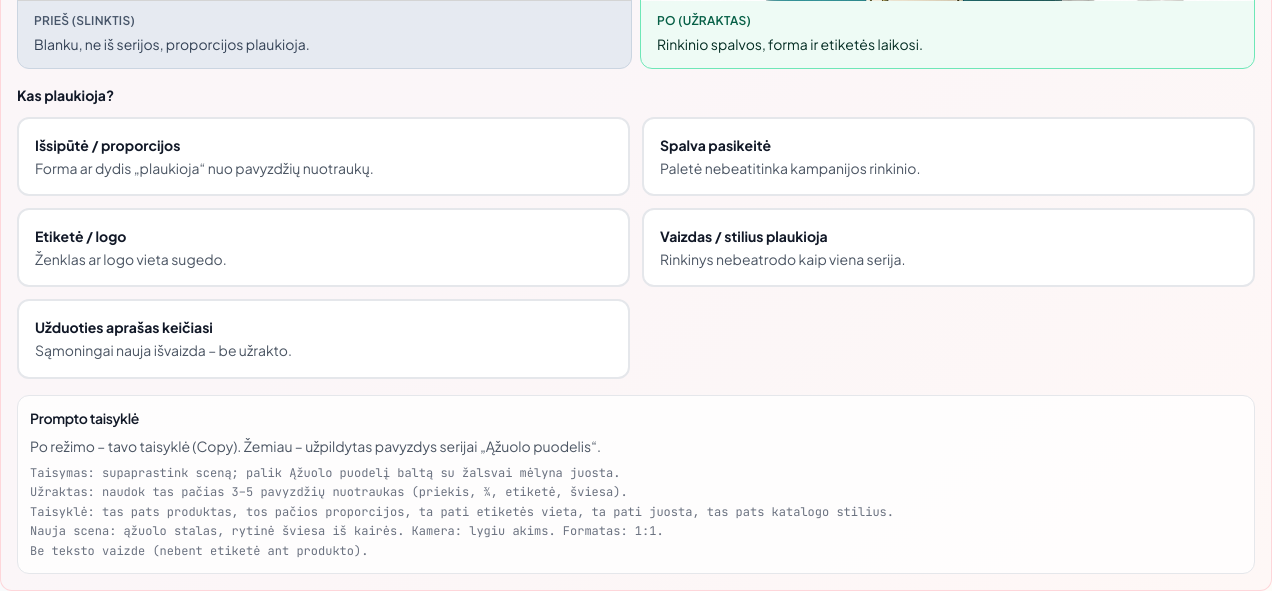
M13ConsistencyLockLabBlock › reveals fresh artifact without lock rule
(page scrolled)
Click the radio button labelled "Užduoties aprašas keičiasi".
click(124, 327)  # box [17,299,630,379]
(page scrolled)
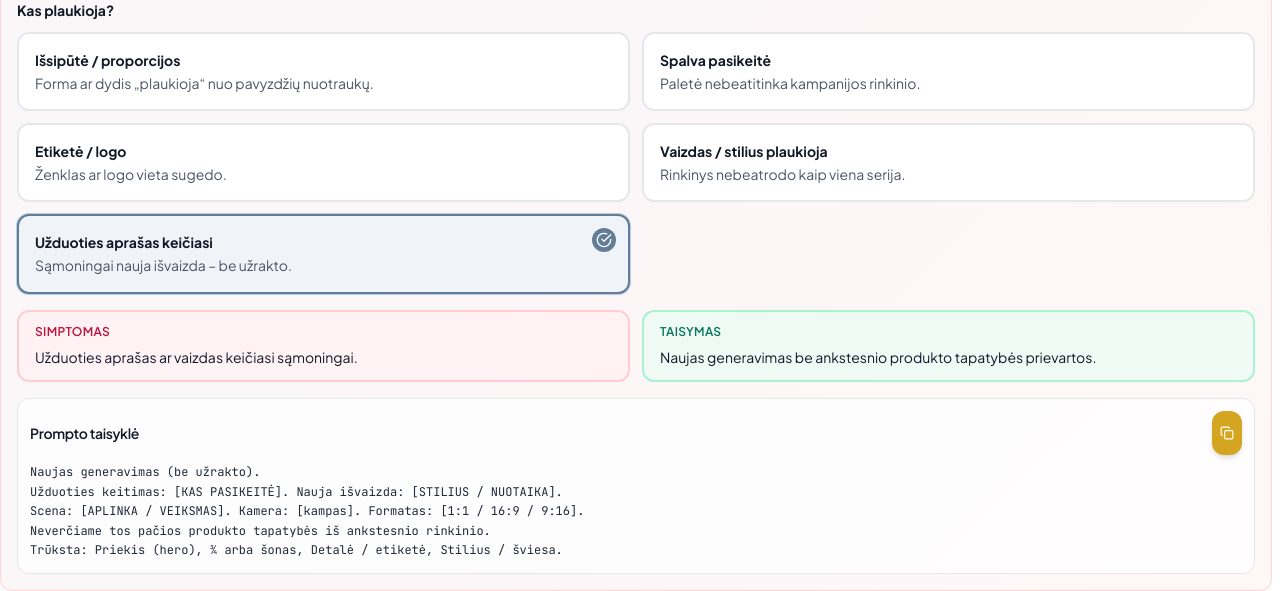
Now the text "Naujas generavimas (be užrakto)" is shown, box [30,464,584,558]
Now the text "Užraktas: naudok tas pačias" is gone
